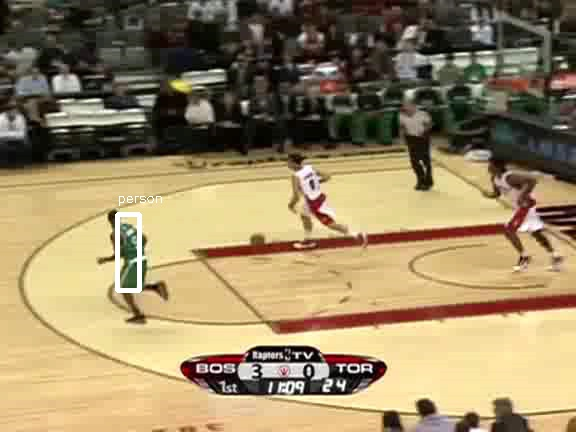person: (117, 213, 151, 294), (116, 213, 150, 294), (118, 213, 152, 294), (117, 212, 151, 293), (117, 214, 151, 295)
target_negative: (90, 215, 439, 370), (296, 70, 486, 216), (184, 26, 259, 274), (463, 309, 508, 417), (548, 221, 564, 310), (560, 274, 565, 334)
